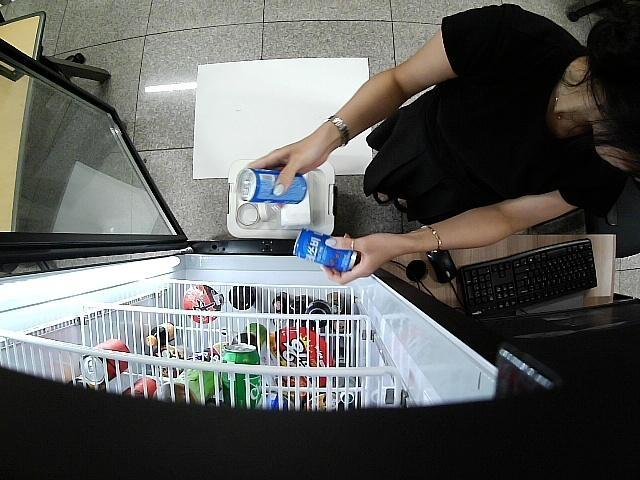15_letsbe: (291, 226, 359, 270), (235, 167, 307, 205)
